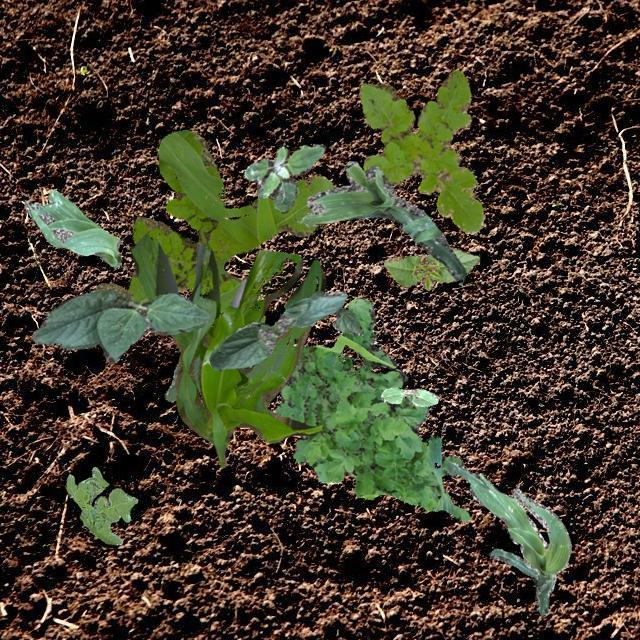crop: (128, 233, 324, 467), (300, 160, 466, 280), (444, 460, 570, 614), (30, 288, 208, 362), (208, 290, 346, 370), (164, 322, 288, 401), (24, 188, 120, 266), (382, 247, 478, 290), (306, 290, 362, 334), (380, 386, 438, 406)
weed: (94, 128, 332, 322), (272, 298, 470, 520), (358, 68, 484, 234), (65, 466, 136, 544), (244, 144, 324, 210)
